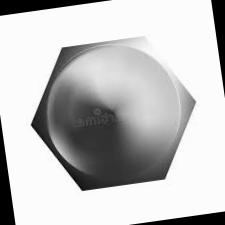screw: (20, 28, 206, 195)
